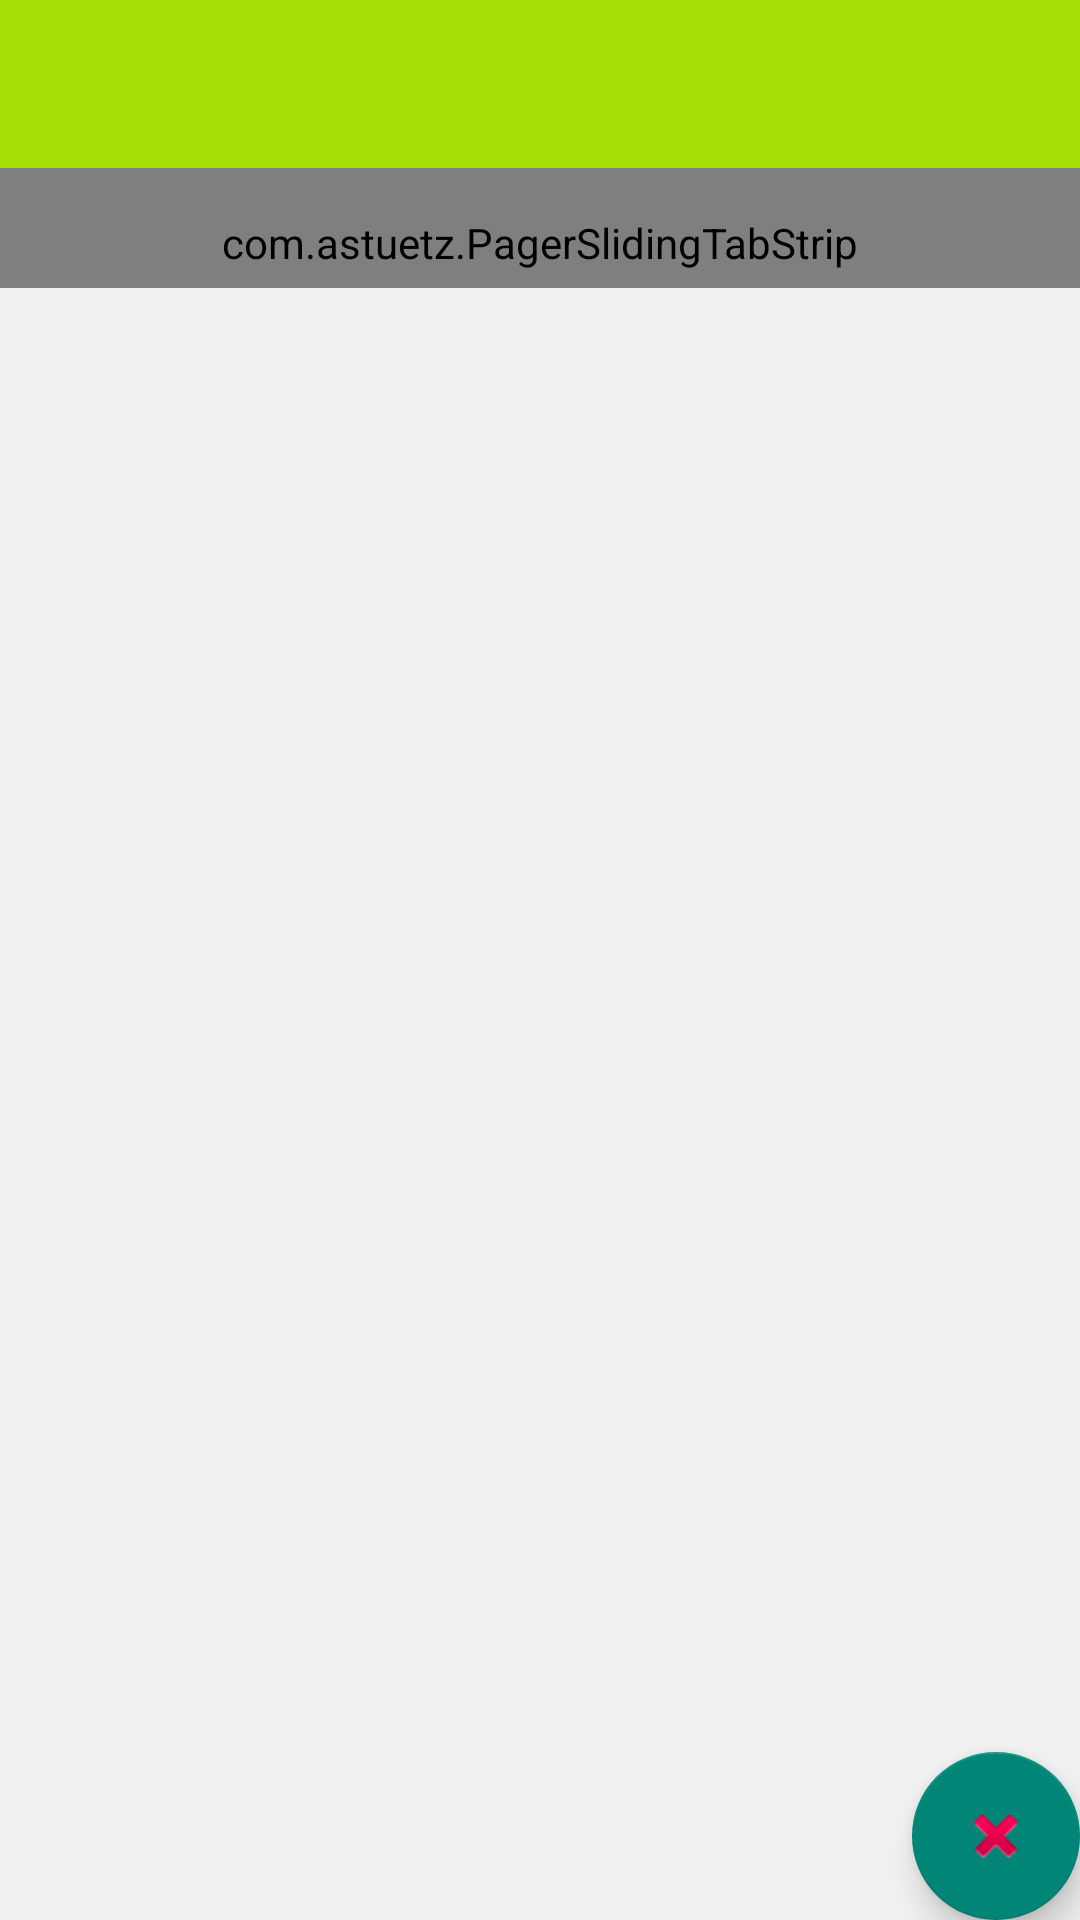

Screen size 1080w x 1920h. Icon name, then its box in pixels as (x1=x1, y1=y1, x2=x2, y2=y2):
delete: (x1=912, y1=1752, x2=1080, y2=1920)
